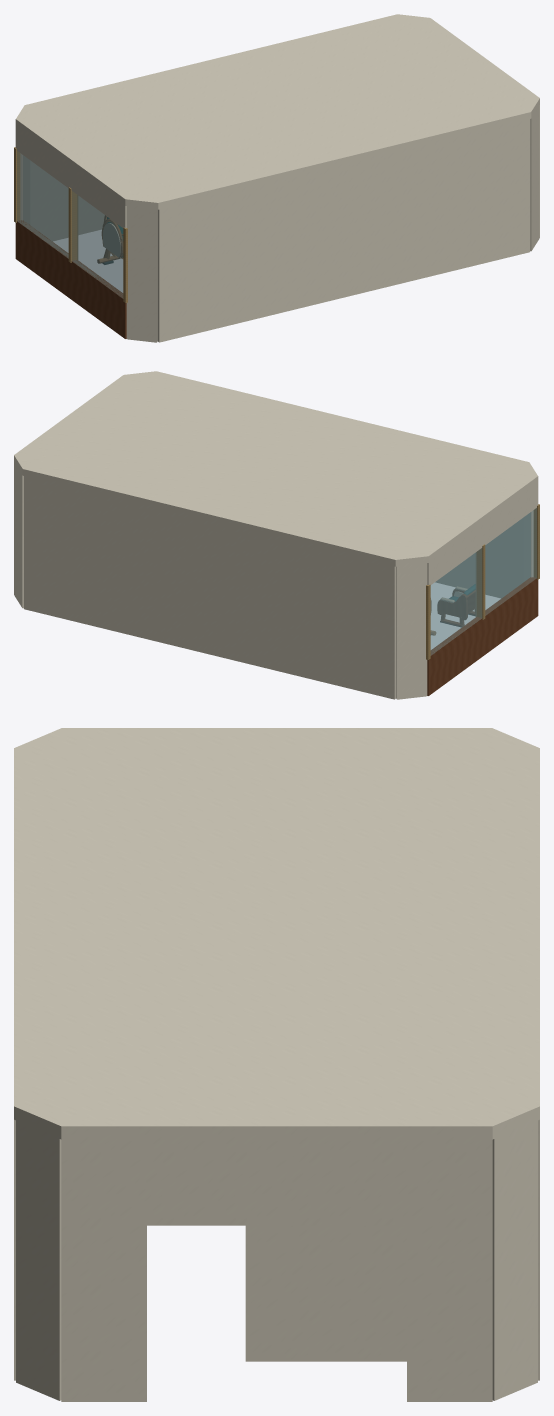
The model's file is D04_PORT_FORWARD_HOME_880_r001.glb.
The picture shows the model from 3 angles, top to bottom: view 1: azimuth 30°, elevation 25°; view 2: azimuth 150°, elevation 25°; view 3: azimuth 270°, elevation 25°; orthographic projection. The views are drawn at different scales.
Parts seen in each view (by area): view 1: D04H880_Roof, D04H880_Shell_3, D04H880_GardenGlass, D04H880_GardenDado, D04H880_Shell_2, D04H880_Shell_7, D04H880_GardenHead, D04H880_Shell_4, D04H880_WindowMullion_1, D04H880_Shell_0, D04H880_WindowMullion_0, D04H880_ReservedCocoon__Rear ivory acoustic diffuser; view 2: D04H880_Roof, D04H880_Shell_7, D04H880_GardenGlass, D04H880_GardenDado, D04H880_Shell_0, D04H880_Shell_3, D04H880_GardenHead, D04H880_Shell_6, D04H880_WindowMullion_1, D04H880_Shell_2, D04H880_ReadingChair__DAY_CHAIR_R_swept_walnut_cheek, D04H880_WindowMullion_2; view 3: D04H880_Roof, D04H880_EntryHeader, D04H880_EntryWall_0, D04H880_EntryWall_1, D04H880_BathDogleg, D04H880_Shell_4, D04H880_Shell_6, D04H880_BathScreen.
Part boxes in pixels (<box>): D04H880_Roof: <box>15,14,539,209</box>; D04H880_Shell_3: <box>157,119,529,342</box>; D04H880_GardenGlass: <box>17,151,123,298</box>; D04H880_GardenDado: <box>15,220,126,338</box>; D04H880_Shell_2: <box>126,206,157,342</box>; D04H880_Shell_7: <box>30,161,104,241</box>; D04H880_GardenHead: <box>15,126,126,227</box>; D04H880_Shell_4: <box>530,106,539,251</box>; D04H880_WindowMullion_1: <box>68,187,77,262</box>; D04H880_Shell_0: <box>20,153,29,224</box>; D04H880_WindowMullion_0: <box>14,147,20,222</box>; D04H880_ReservedCocoon__Rear ivory acoustic diffuser: <box>103,223,120,258</box>; D04H880_Roof: <box>14,371,538,566</box>; D04H880_Shell_7: <box>24,476,396,699</box>; D04H880_GardenGlass: <box>430,508,536,655</box>; D04H880_GardenDado: <box>427,577,538,695</box>; D04H880_Shell_0: <box>396,563,427,699</box>; D04H880_Shell_3: <box>435,518,523,598</box>; D04H880_GardenHead: <box>427,483,538,584</box>; D04H880_Shell_6: <box>14,463,23,608</box>; D04H880_WindowMullion_1: <box>476,544,485,619</box>; D04H880_Shell_2: <box>524,510,533,581</box>; D04H880_ReadingChair__DAY_CHAIR_R_swept_walnut_cheek: <box>437,594,467,619</box>; D04H880_WindowMullion_2: <box>533,504,539,579</box>; D04H880_Roof: <box>14,728,539,1139</box>; D04H880_EntryHeader: <box>147,1139,406,1225</box>; D04H880_EntryWall_0: <box>407,1139,492,1401</box>; D04H880_EntryWall_1: <box>61,1139,146,1401</box>; D04H880_BathDogleg: <box>245,1225,406,1361</box>; D04H880_Shell_4: <box>16,1120,61,1400</box>; D04H880_Shell_6: <box>492,1120,537,1400</box>; D04H880_BathScreen: <box>245,1225,258,1361</box>.
Size of the model in its own units: 12.92 by 4.16 by 7.2.
Materials: 35 (20 with a texture image).
